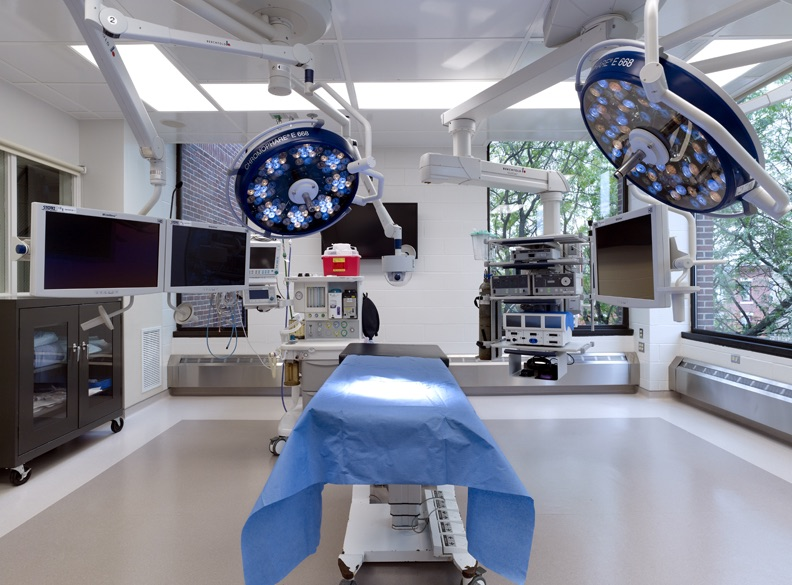TV: (318, 198, 422, 259)
bedside_monitor: (30, 205, 158, 291), (582, 208, 675, 321), (166, 218, 248, 290), (245, 240, 281, 277)
handle: (82, 343, 92, 360), (73, 343, 83, 360)
medical_drawer: (1, 298, 126, 485)
operating_bed: (240, 356, 533, 585)
surgical_light: (572, 40, 766, 218), (223, 118, 367, 240)
ventilator: (272, 274, 377, 421)
